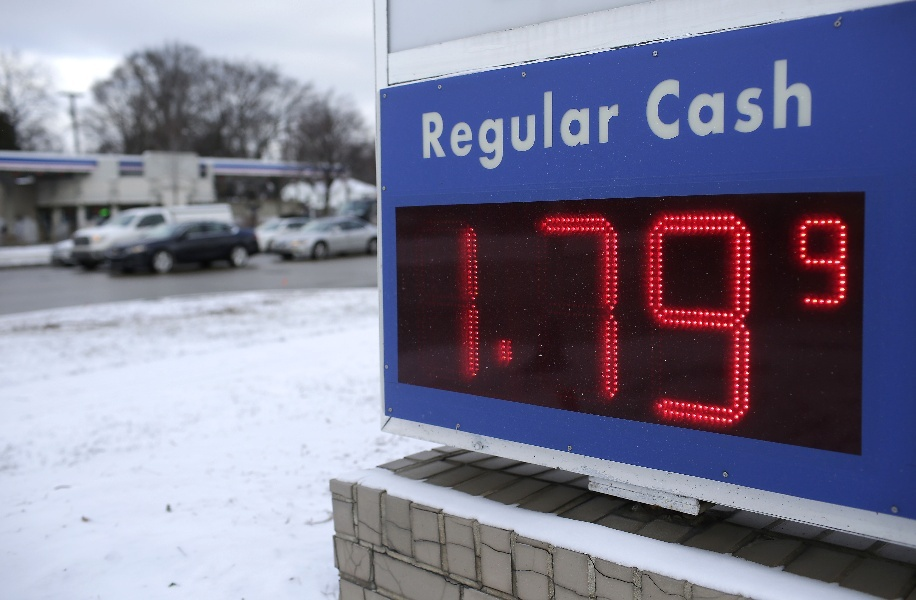text: (481, 211, 496, 433), (497, 211, 512, 433), (513, 211, 528, 433), (529, 211, 544, 433), (545, 211, 560, 433), (561, 211, 576, 433), (577, 211, 592, 433), (593, 211, 608, 433), (609, 211, 624, 433), (625, 211, 640, 433), (641, 211, 656, 433), (657, 211, 672, 433), (673, 211, 688, 433), (689, 211, 704, 433), (705, 211, 720, 433), (721, 211, 736, 433), (737, 211, 752, 433), (467, 211, 480, 433), (433, 78, 448, 173), (449, 78, 464, 173), (465, 78, 480, 173), (481, 78, 496, 173), (497, 78, 512, 173), (513, 78, 528, 173), (529, 78, 544, 173), (545, 78, 560, 173), (561, 78, 576, 173), (577, 78, 592, 173), (593, 78, 608, 173), (609, 78, 624, 173), (801, 55, 817, 143), (833, 218, 849, 306), (657, 55, 672, 143), (673, 55, 688, 143), (689, 55, 704, 143), (705, 55, 720, 143), (721, 55, 736, 143), (737, 55, 752, 143), (753, 55, 768, 143), (769, 55, 784, 143), (785, 55, 800, 143), (801, 218, 816, 306), (817, 218, 832, 306), (421, 78, 432, 173), (753, 211, 756, 433), (651, 55, 656, 143), (625, 78, 626, 173)
